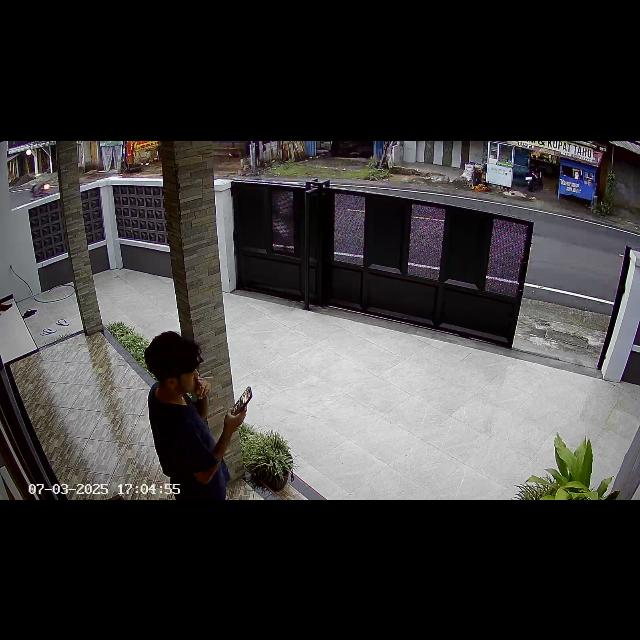rokok: (198, 372, 212, 382)
